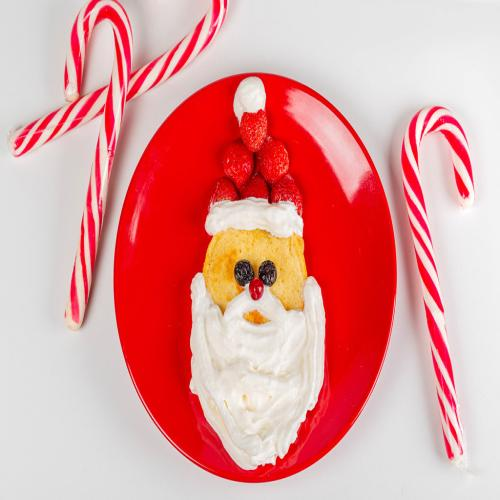Santa: (189, 75, 326, 471)
